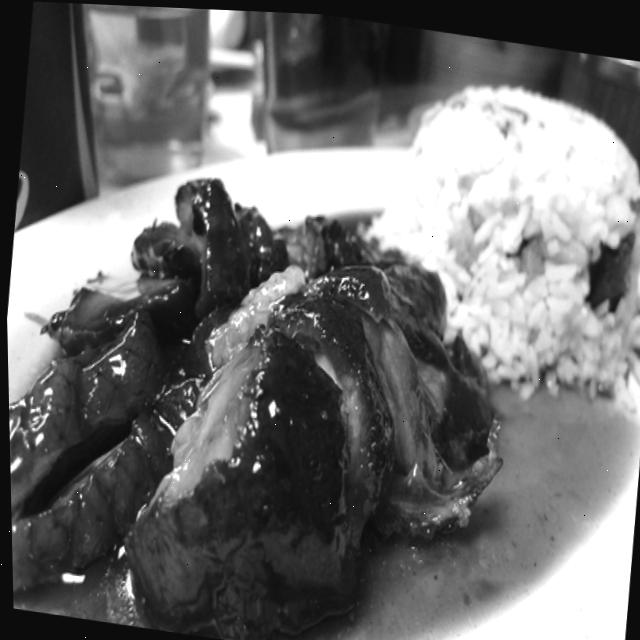米饭主食: (0, 12, 640, 640)
